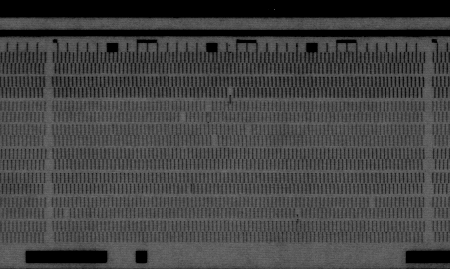Broken hole: (209, 135, 221, 149), (367, 194, 378, 209), (60, 206, 72, 219), (203, 101, 214, 112), (177, 112, 188, 123)
Oblique printing: (222, 86, 236, 103), (292, 208, 304, 223), (184, 183, 196, 196)
